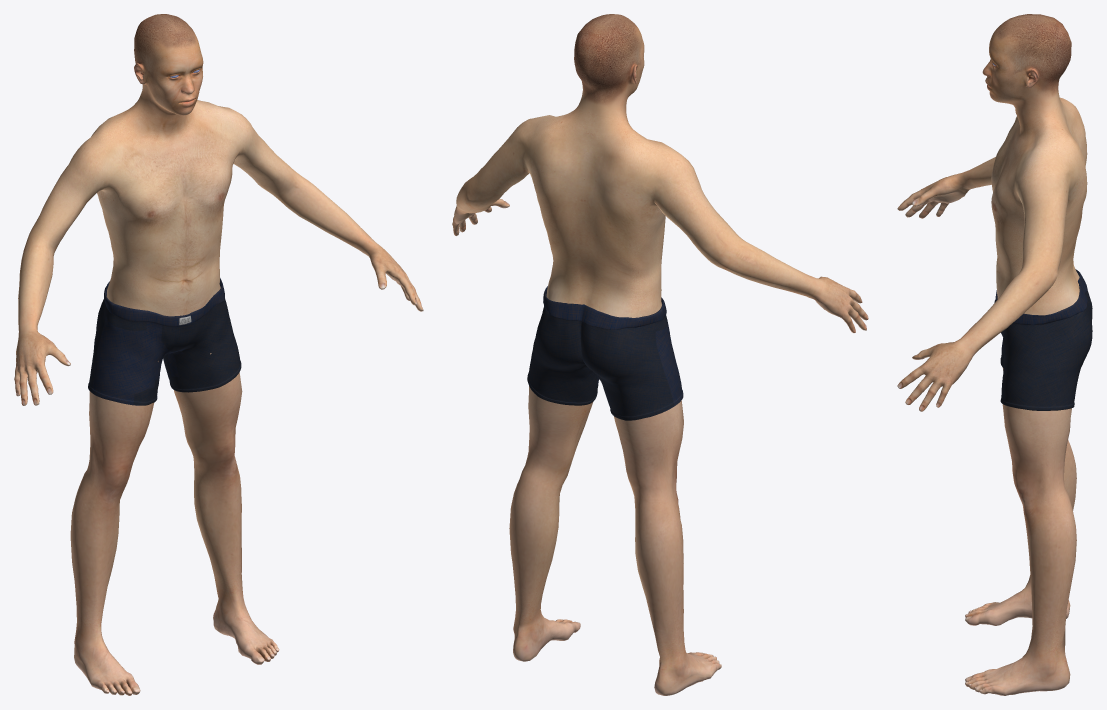
The model's file is m_medium.glb.
3 views of the same model, side by side, from view 1: azimuth 30°, elevation 25°; view 2: azimuth 150°, elevation 25°; view 3: azimuth 270°, elevation 25° (orthographic).
Parts seen in each view (by area): view 1: male_m_medium-base, male_m_medium-boxers___causalunderwear; view 2: male_m_medium-base, male_m_medium-boxers___causalunderwear; view 3: male_m_medium-base, male_m_medium-boxers___causalunderwear.
Part boxes in pixels (x1=…): male_m_medium-base: x1=14, y1=14, x2=423, y2=695; male_m_medium-boxers___causalunderwear: x1=88, y1=278, x2=241, y2=405; male_m_medium-base: x1=452, y1=14, x2=868, y2=695; male_m_medium-boxers___causalunderwear: x1=527, y1=286, x2=683, y2=420; male_m_medium-base: x1=897, y1=14, x2=1087, y2=695; male_m_medium-boxers___causalunderwear: x1=994, y1=269, x2=1092, y2=410.
Size of the model in its own units: 1.13 by 1.73 by 0.4797.
Materials: 3 (3 with a texture image).
